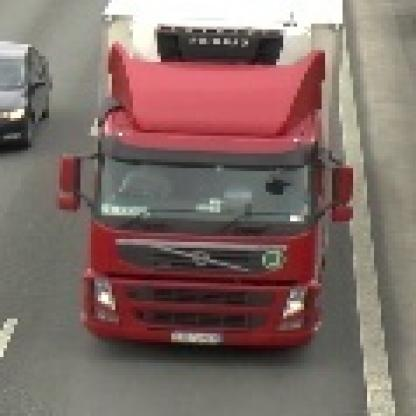truck: (54, 1, 351, 355)
